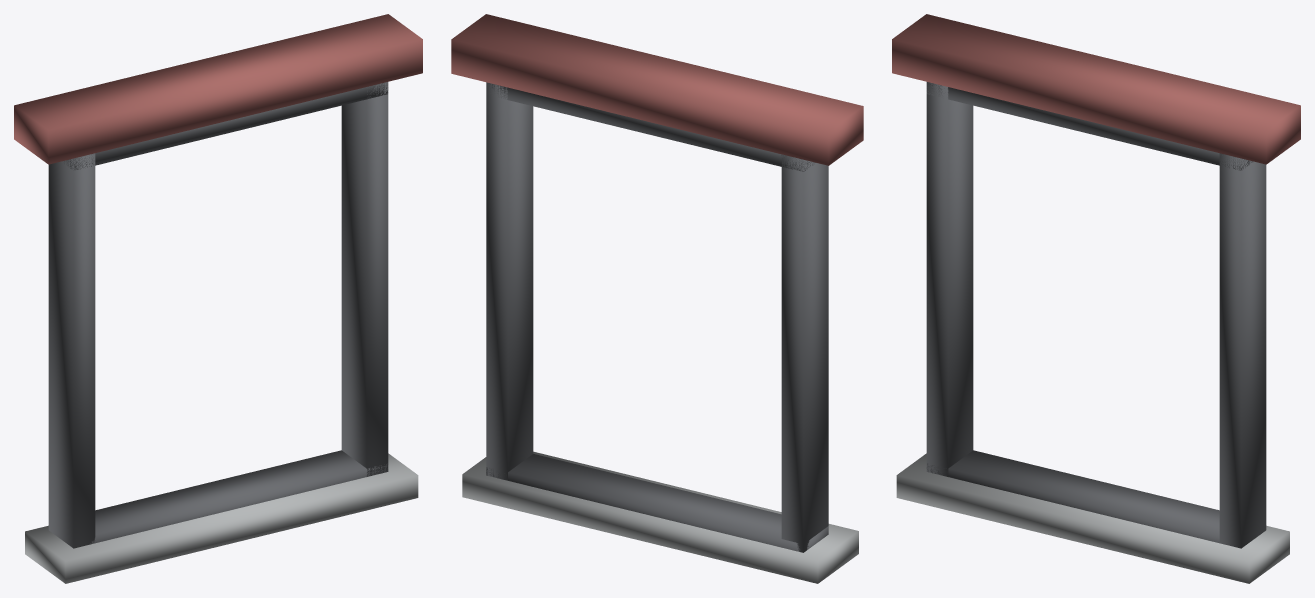
Rendered from egress_window_brick_w100_h130_s55_d16.glb.
3 renders of one model, left to right at view 1: azimuth 30°, elevation 25°; view 2: azimuth 150°, elevation 25°; view 3: azimuth 330°, elevation 25°, orthographic.
Parts seen in each view (by area): view 1: world; view 2: world; view 3: world.
Boxes of the visible parts, x1,y1,x2,y2 form: world: [14, 14, 422, 583]; world: [451, 14, 863, 583]; world: [892, 14, 1300, 583].
Bounding box in the file's own units: 1.38 × 1.59 × 0.26.
